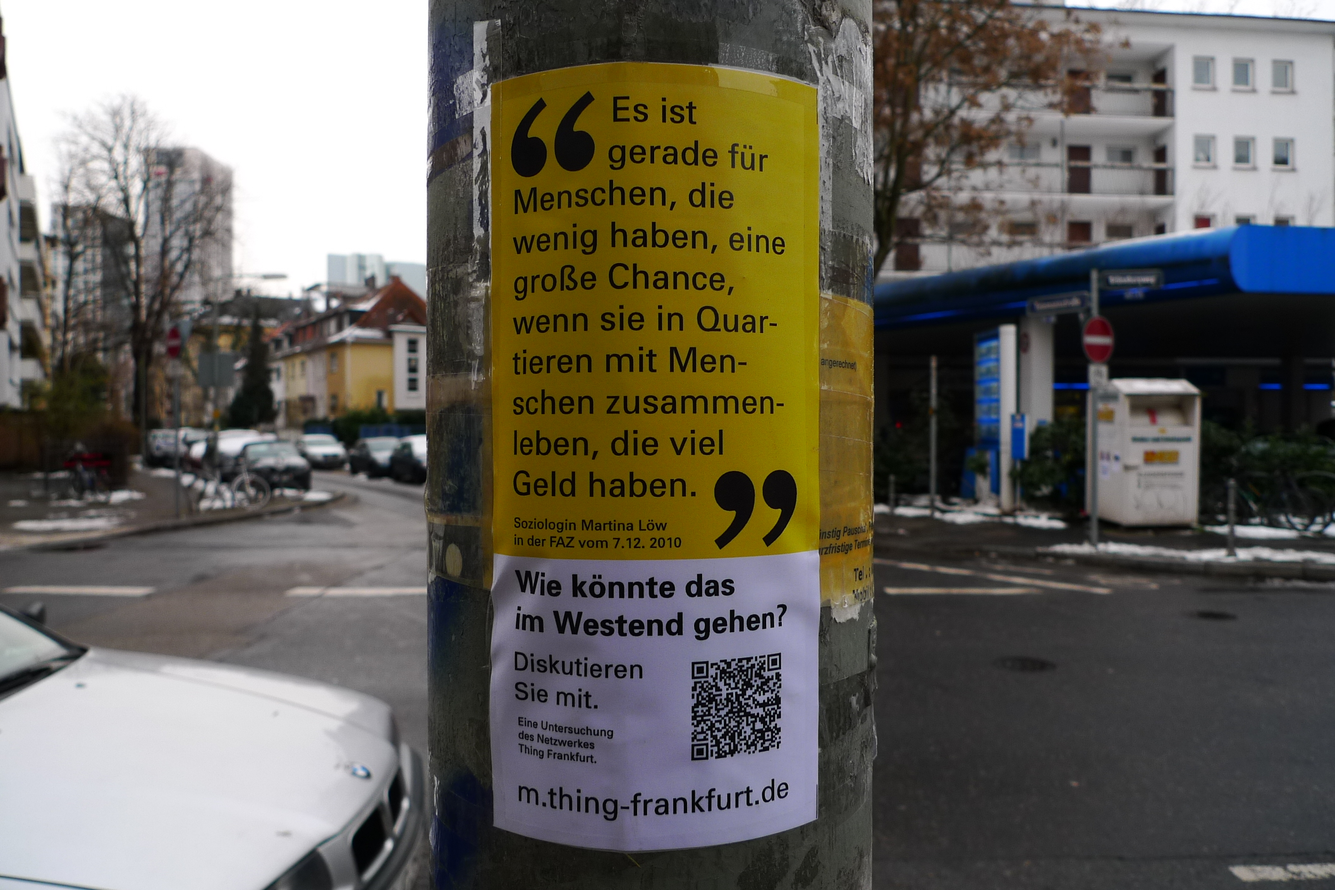QR-CODE: (692, 652, 781, 760)
